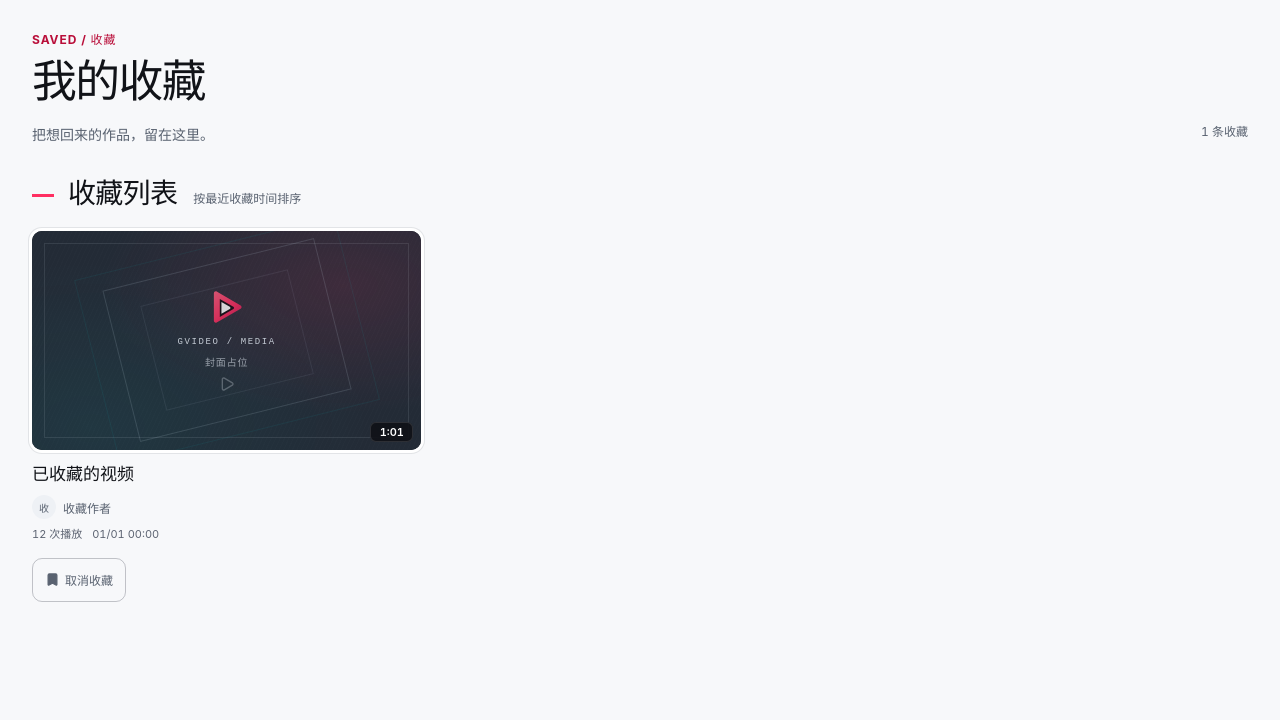
FavoritesPage › 待完成时禁用重复点击，不会连续 toggle 回收藏状态
Click the button "取消收藏" at (79, 580), box left=32, top=558, right=126, bottom=602
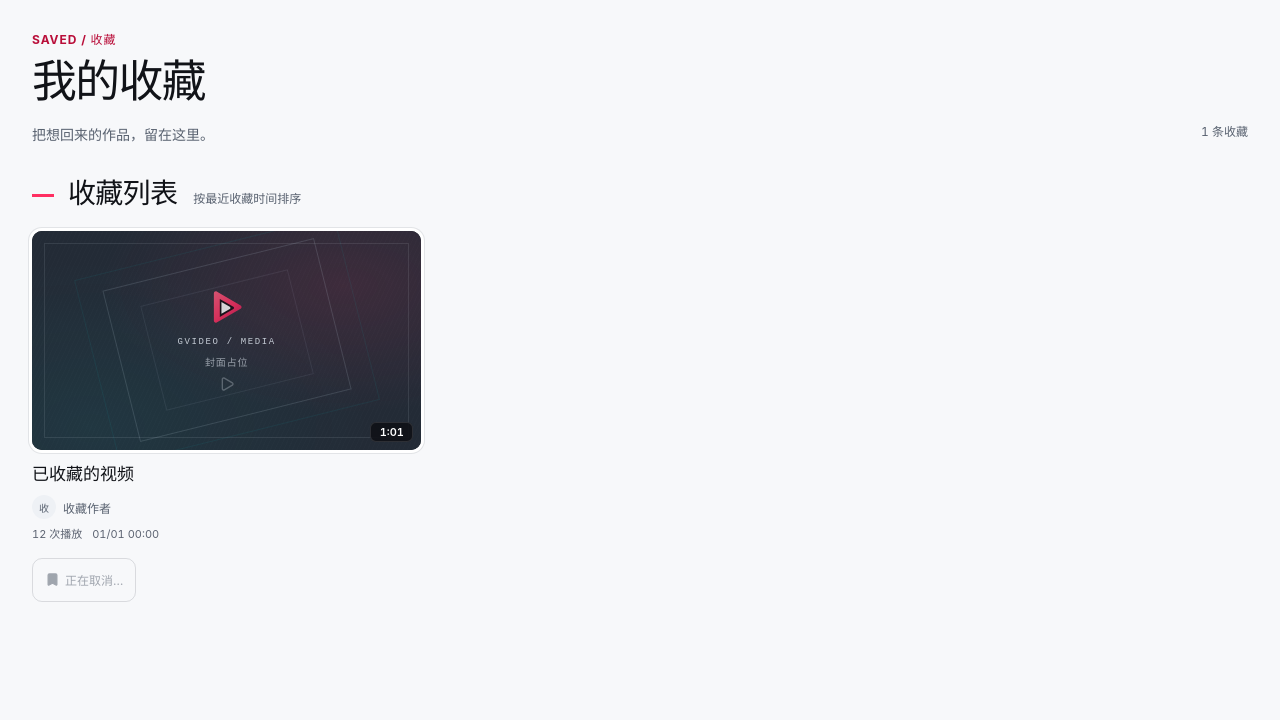
Click the button with aria-label "取消收藏" at (84, 580), box left=32, top=558, right=136, bottom=602
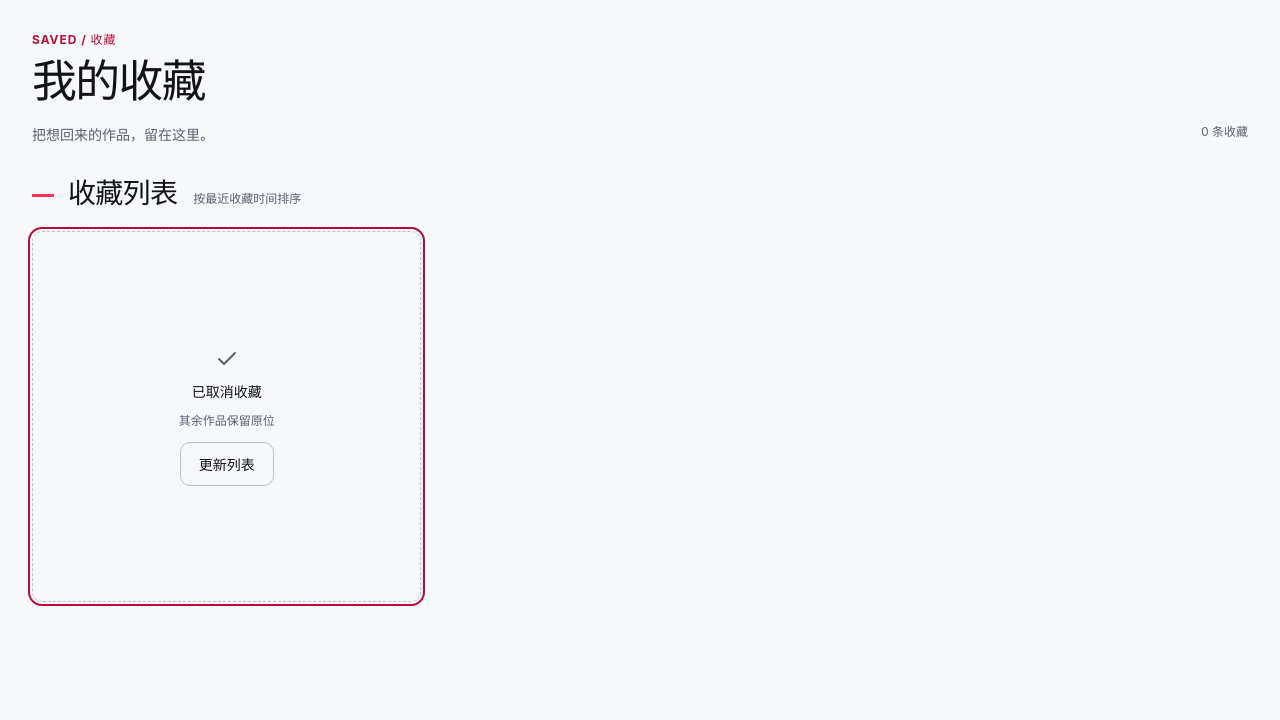
Now the text "已取消收藏" is shown, box left=192, top=381, right=262, bottom=401
